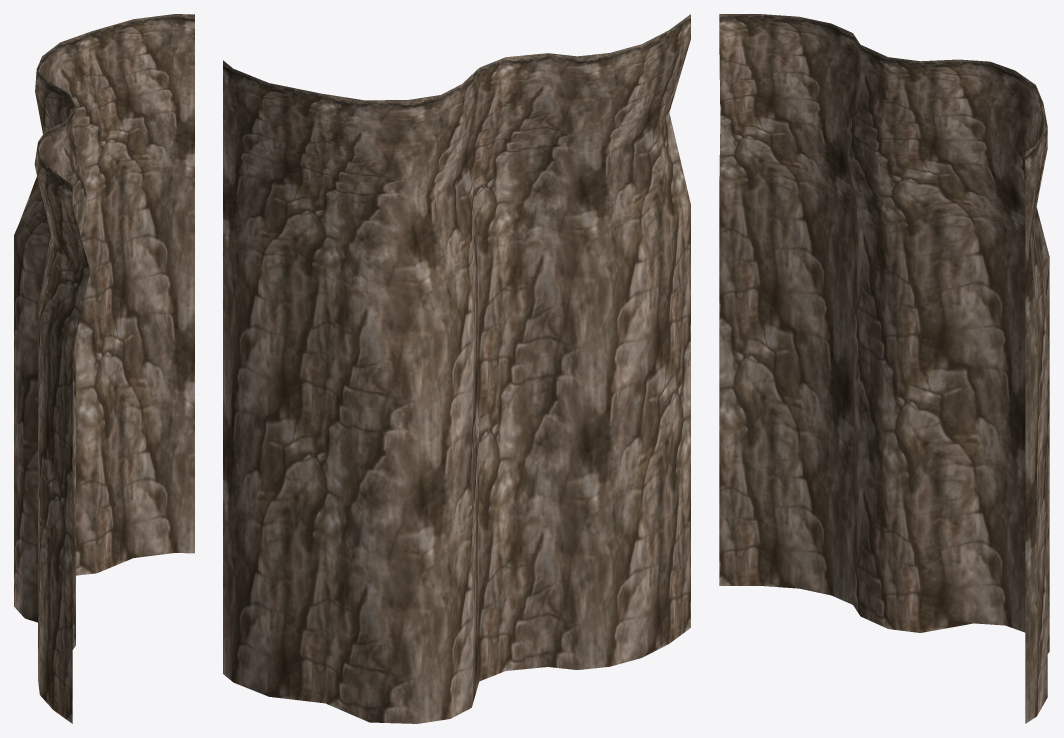
The model's file is OVERHILL_A_01_LINE93.fbx.
3 views of the same model, side by side, from view 1: azimuth 30°, elevation 25°; view 2: azimuth 150°, elevation 25°; view 3: azimuth 270°, elevation 25° (orthographic). The views are drawn at different scales.
Visible parts, largest first — view 1: OVERHILL_A_01_LINE93; view 2: OVERHILL_A_01_LINE93; view 3: OVERHILL_A_01_LINE93.
Boxes of the visible parts, <box> form: OVERHILL_A_01_LINE93: <box>14,14,194,723</box>; OVERHILL_A_01_LINE93: <box>223,14,690,723</box>; OVERHILL_A_01_LINE93: <box>719,14,1049,723</box>.
Size of the model in its own units: 149377 by 285982 by 149770.
Materials: 2 (2 with a texture image).
